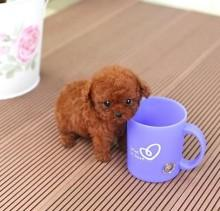dog: (79, 68, 149, 137)
